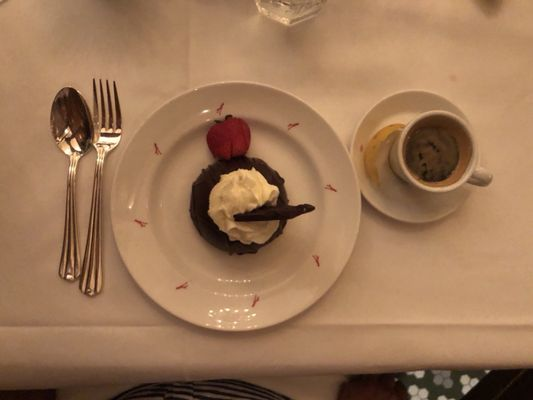burger: (50, 85, 96, 287), (83, 78, 123, 297)
pizza: (350, 89, 494, 226), (254, 0, 327, 27)
